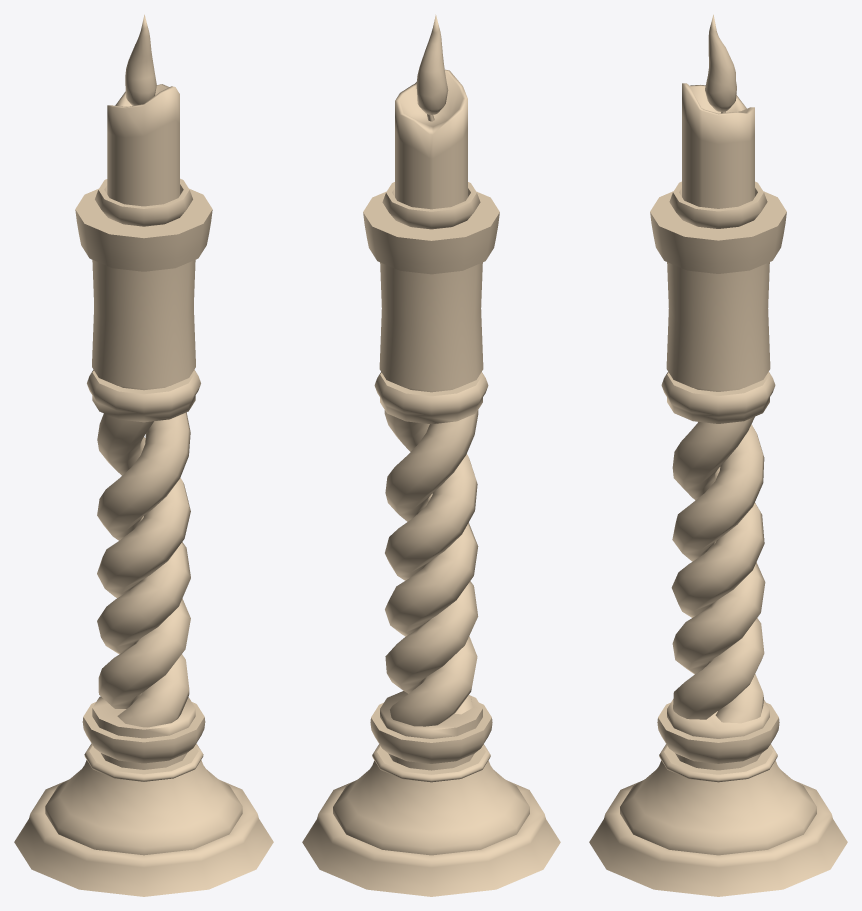
File: vela.fbx
3 views of the same model, side by side, from view 1: azimuth 30°, elevation 25°; view 2: azimuth 150°, elevation 25°; view 3: azimuth 270°, elevation 25° (orthographic).
Visible parts, largest first — view 1: pasted__defaultMaterial; view 2: pasted__defaultMaterial; view 3: pasted__defaultMaterial.
Part boxes in pixels (x1,y1,x2,y2): pasted__defaultMaterial: (14, 14, 273, 896); pasted__defaultMaterial: (302, 14, 560, 896); pasted__defaultMaterial: (589, 14, 847, 896).
Size of the model in its own units: 0.5541 by 1.95 by 0.5541.
